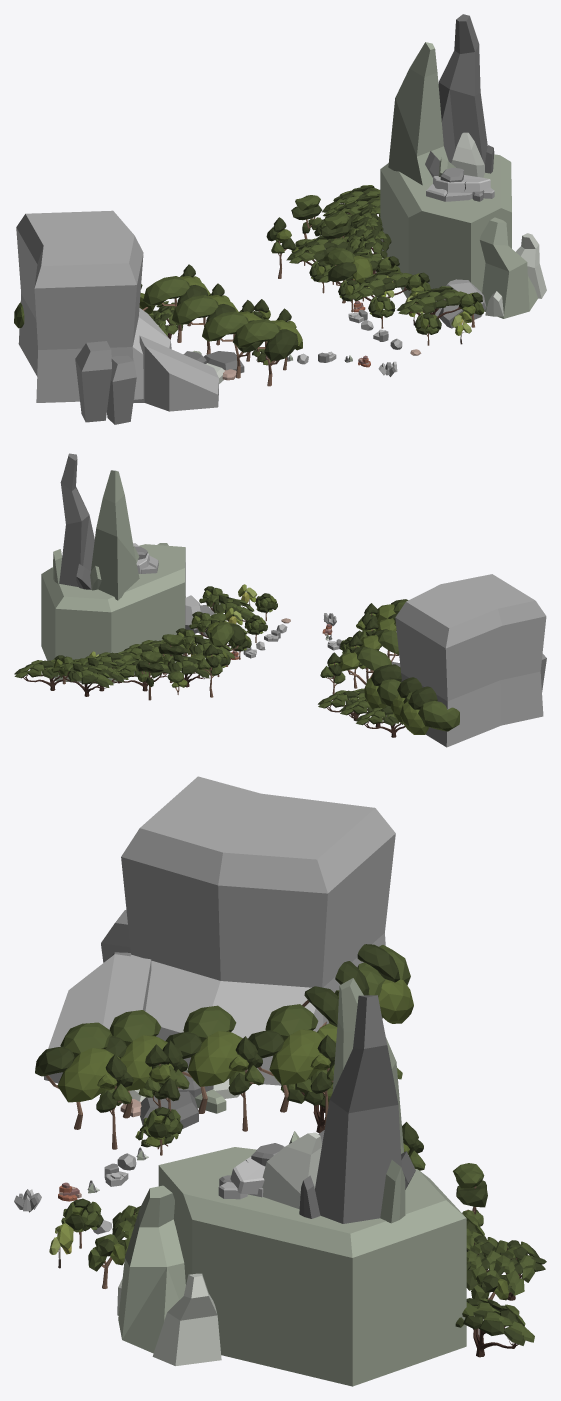
Rendered from environment.gltf.
3 views of the same model, one above another, from view 1: azimuth 30°, elevation 25°; view 2: azimuth 150°, elevation 25°; view 3: azimuth 270°, elevation 25° (orthographic). The views are drawn at different scales.
Parts seen in each view (by area): view 1: Rock Type6 03, Rock Type3 02, Rock Type1 04, Rock Type3 01, Rock Type5 04, Tree Type3 03 (4), Rock Type1 01, Tree Type3 03 (2), Tree Type3 03, Tree Type3 03 (3), Tree Type3 03 (1), Tree Type0 04 (3) (+15 smaller); view 2: Rock Type6 03, Rock Type1 04, Rock Type3 02, Tree Type3 03 (7), Tree Type3 03 (5), Tree Type0 04 (4), Tree Type3 03 (2), Tree Type0 04 (3), Tree Type0 04 (1), Tree Type0 04 (9), Tree Type3 03 (1), Tree Type0 04 (12) (+18 smaller); view 3: Rock Type6 03, Rock Type1 04, Rock Type3 02, Rock Type3 01, Rock Type5 04, Tree Type3 03 (4), Tree Type3 03 (2), Tree Type3 03, Tree Type3 03 (3), Tree Type3 03 (7), Tree Type0 04 (9), Rock Type4 02 (+17 smaller).
Boxes of the visible parts, x1,y1,x2,y2 form: Rock Type6 03: (16, 210, 171, 424); Rock Type3 02: (388, 14, 494, 185); Rock Type1 04: (380, 154, 511, 298); Rock Type3 01: (479, 217, 546, 318); Rock Type5 04: (133, 335, 218, 411); Tree Type3 03 (4): (233, 319, 302, 386); Rock Type1 01: (426, 167, 494, 201); Tree Type3 03 (2): (143, 276, 210, 342); Tree Type3 03: (172, 295, 238, 354); Tree Type3 03 (3): (202, 311, 263, 378); Tree Type3 03 (1): (322, 247, 372, 303); Tree Type0 04 (3): (397, 286, 466, 326); Rock Type6 03: (395, 574, 546, 747); Rock Type1 04: (41, 544, 185, 683); Rock Type3 02: (53, 453, 139, 600); Tree Type3 03 (7): (400, 686, 459, 734); Tree Type3 03 (5): (364, 664, 401, 710); Tree Type0 04 (4): (51, 661, 113, 696); Tree Type3 03 (2): (338, 646, 391, 684); Tree Type0 04 (3): (199, 593, 255, 621); Tree Type0 04 (1): (161, 654, 213, 687); Tree Type0 04 (9): (14, 659, 75, 690); Tree Type3 03 (1): (208, 622, 245, 666); Tree Type0 04 (12): (355, 707, 405, 737); Rock Type6 03: (101, 776, 395, 1085); Rock Type1 04: (158, 1147, 466, 1386); Rock Type3 02: (262, 978, 415, 1223); Rock Type3 01: (117, 1185, 221, 1366); Rock Type5 04: (44, 954, 151, 1083); Tree Type3 03 (4): (35, 1022, 119, 1129); Tree Type3 03 (2): (248, 1004, 324, 1112); Tree Type3 03: (165, 1005, 242, 1113); Tree Type3 03 (3): (105, 1010, 167, 1118); Tree Type3 03 (7): (357, 944, 413, 1023); Tree Type0 04 (9): (455, 1298, 534, 1357); Rock Type4 02: (122, 1068, 239, 1128).
Bounding box in the file's own units: 574 × 250 × 325.
Materials: 5 (5 with a texture image).
